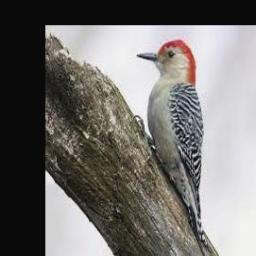Woodpecker: (137, 40, 216, 255)
